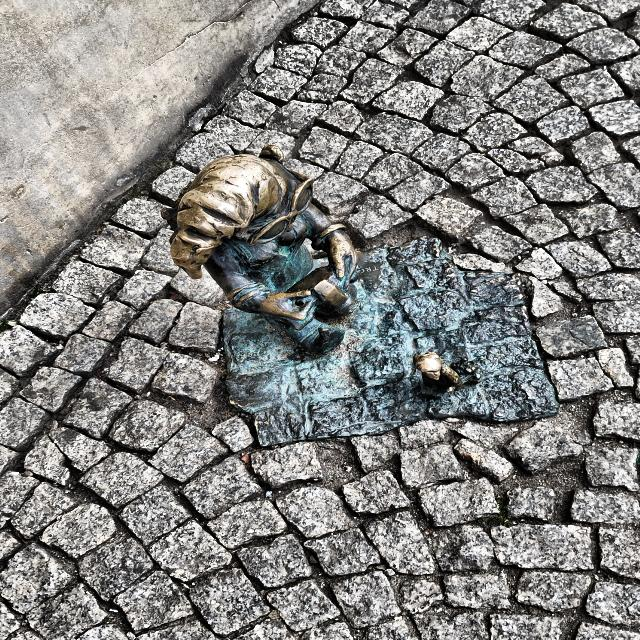Troszka i Adoratorek: (171, 155, 560, 450)
